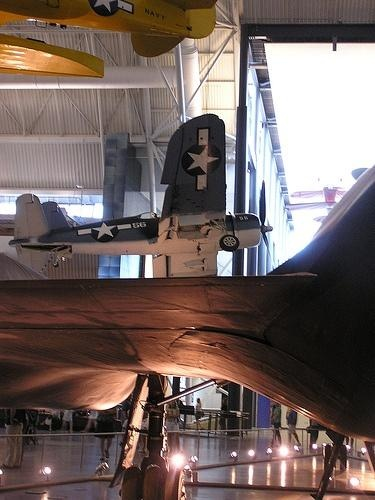aeroplane: (2, 162, 375, 500), (13, 111, 273, 281), (1, 2, 215, 76)
